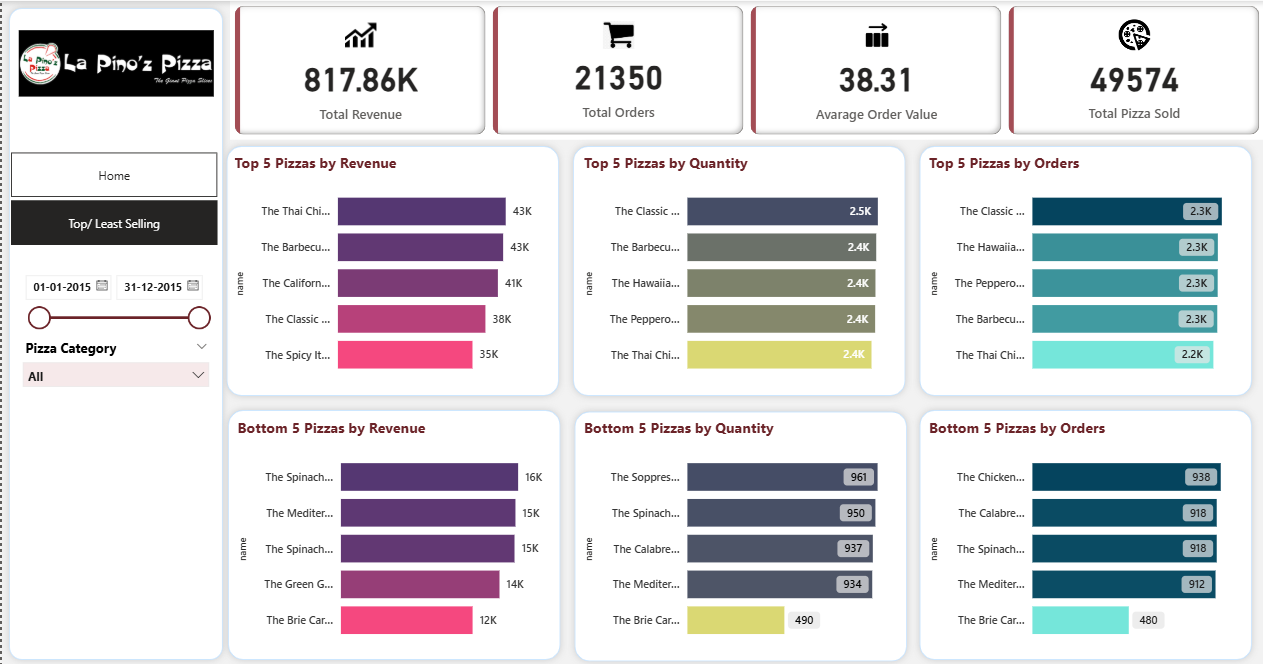

The page's visual inventory and layout, read from the dashboard file:
{"tool":"powerbi","page":{"name":"Top/ Least Selling","canvas":[1420,750],"ordinal":1},"visuals":[{"type":"cardVisual","fields":{"Data":["pizzas.Total Revenue","orders.Total Orders","orders.Avarage Order Value","order_details.Total Pizza Sold"]},"box":[256.3,0,1163.7,155.9],"z":0},{"type":"shape","box":[244.6,155.2,389.6,296.9],"z":1000},{"type":"shape","box":[0,0,256.4,748.9],"z":2000},{"type":"image","box":[13.5,13.5,229.4,113],"z":3000},{"type":"slicer","fields":{"Values":["pizza_types.category"]},"box":[13.5,374.4,229.4,60.7],"z":4000},{"type":"slicer","fields":{"Values":["orders.order_date"]},"box":[13.5,298.5,229.4,75.9],"z":5000},{"type":"shape","box":[634.2,155.2,389.6,296.9],"z":6000},{"type":"shape","box":[1023.8,155.2,389.6,296.9],"z":7000},{"type":"shape","box":[246.3,452,389.6,296.9],"z":8000},{"type":"shape","box":[635.9,453.7,389.6,296.9],"z":9000},{"type":"shape","box":[1023.8,452,389.6,296.9],"z":10000},{"type":"barChart","title":"Top 5 Pizzas by Revenue","fields":{"Category":["pizza_types.name"],"Y":["pizzas.Total Revenue"]},"box":[256.4,170.4,364.3,264.8],"z":11000},{"type":"barChart","title":"Bottom 5 Pizzas by Revenue","fields":{"Category":["pizza_types.name"],"Y":["pizzas.Total Revenue"]},"box":[259.8,468.9,364.3,264.8],"z":12000},{"type":"barChart","title":"Top 5 Pizzas by Quantity","fields":{"Category":["pizza_types.name"],"Y":["order_details.Total Pizza Sold"]},"box":[649.4,170.4,364.3,264.8],"z":13000},{"type":"barChart","title":"Bottom 5 Pizzas by Quantity","fields":{"Category":["pizza_types.name"],"Y":["order_details.Total Pizza Sold"]},"box":[649.4,468.9,364.3,264.8],"z":14000},{"type":"barChart","title":"Top 5 Pizzas by Orders","fields":{"Category":["pizza_types.name"],"Y":["orders.Total Orders"]},"box":[1037.3,170.4,364.3,264.8],"z":15000},{"type":"barChart","title":"Bottom 5 Pizzas by Orders","fields":{"Category":["pizza_types.name"],"Y":["orders.Total Orders"]},"box":[1037.3,468.9,364.3,264.8],"z":16000},{"type":"pageNavigator","box":[10.1,224.3,232.8,50.6],"z":17000},{"type":"pageNavigator","box":[10.1,170.4,232.8,50.6],"z":18000}]}

Visuals, with their boxes on the page's 1420x750 design canvas (x1, y1, x2, y2). These are canvas units, not pixel positions in the 1263x664 screenshot, which may show the page scaled, cropped or inside an application window:
cardVisual - pizzas.Total Revenue x orders.Total Orders: bbox=(256, 0, 1420, 156)
shape: bbox=(245, 155, 634, 452)
shape: bbox=(0, 0, 256, 749)
image: bbox=(14, 14, 243, 126)
slicer - pizza_types.category: bbox=(14, 374, 243, 435)
slicer - orders.order_date: bbox=(14, 298, 243, 374)
shape: bbox=(634, 155, 1024, 452)
shape: bbox=(1024, 155, 1413, 452)
shape: bbox=(246, 452, 636, 749)
shape: bbox=(636, 454, 1026, 751)
shape: bbox=(1024, 452, 1413, 749)
"Top 5 Pizzas by Revenue" barChart: bbox=(256, 170, 621, 435)
"Bottom 5 Pizzas by Revenue" barChart: bbox=(260, 469, 624, 734)
"Top 5 Pizzas by Quantity" barChart: bbox=(649, 170, 1014, 435)
"Bottom 5 Pizzas by Quantity" barChart: bbox=(649, 469, 1014, 734)
"Top 5 Pizzas by Orders" barChart: bbox=(1037, 170, 1402, 435)
"Bottom 5 Pizzas by Orders" barChart: bbox=(1037, 469, 1402, 734)
pageNavigator: bbox=(10, 224, 243, 275)
pageNavigator: bbox=(10, 170, 243, 221)
